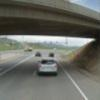cars: (36, 57, 58, 75)
